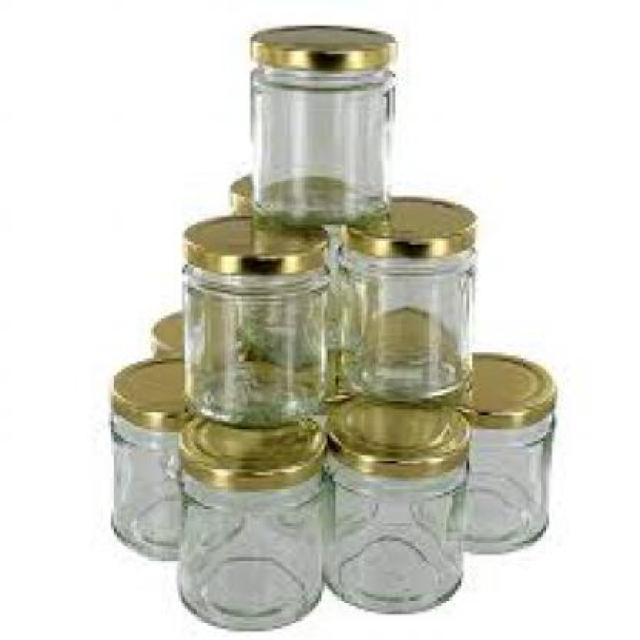GLASS: (179, 256, 330, 424), (251, 57, 392, 221), (177, 466, 318, 623), (328, 242, 469, 398), (325, 454, 463, 612), (466, 410, 546, 552), (109, 407, 180, 558)
METAL: (328, 392, 463, 466), (177, 415, 321, 483), (436, 350, 552, 427), (338, 197, 472, 258), (182, 210, 321, 268), (108, 350, 197, 427), (248, 22, 392, 68), (228, 171, 362, 214), (150, 307, 184, 359)
